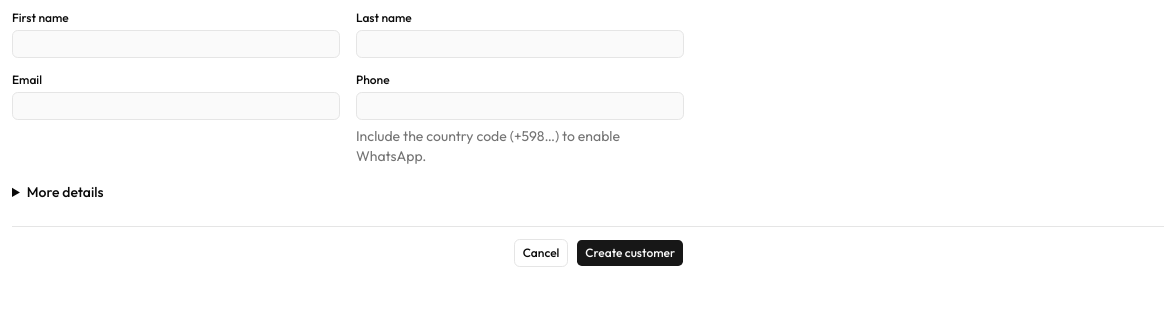
CustomerForm › interpolates the maximum length in length errors
The image size is (1164, 336).
Click the button "Create customer". click: click(630, 253)
box: [576, 239, 684, 267]
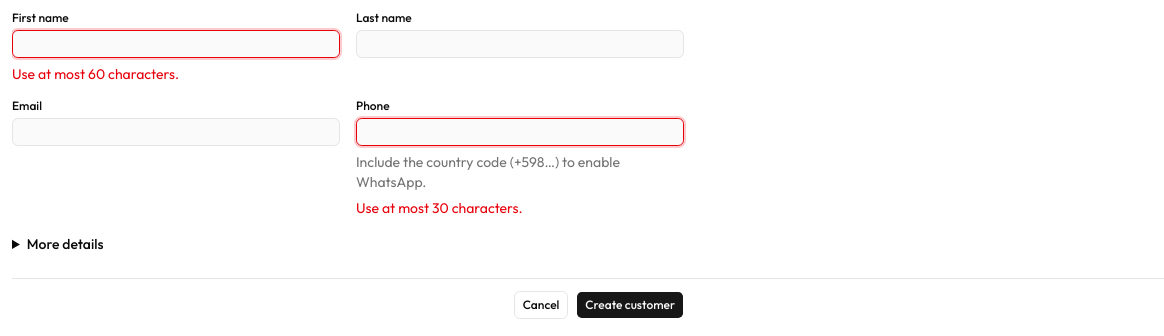
Expected: the text "Use at most 60 characters." is shown 2 times, [12, 65, 179, 83]; [356, 199, 523, 217]
Expected: the text "Use at most 60 characters." is shown, [12, 65, 179, 83]
Expected: the text "Use at most 30 characters." is shown, [356, 199, 523, 217]
